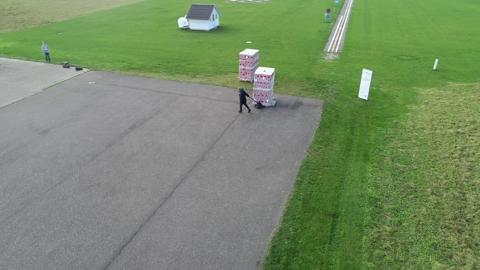RockwoolPallet: (239, 46, 256, 85)
